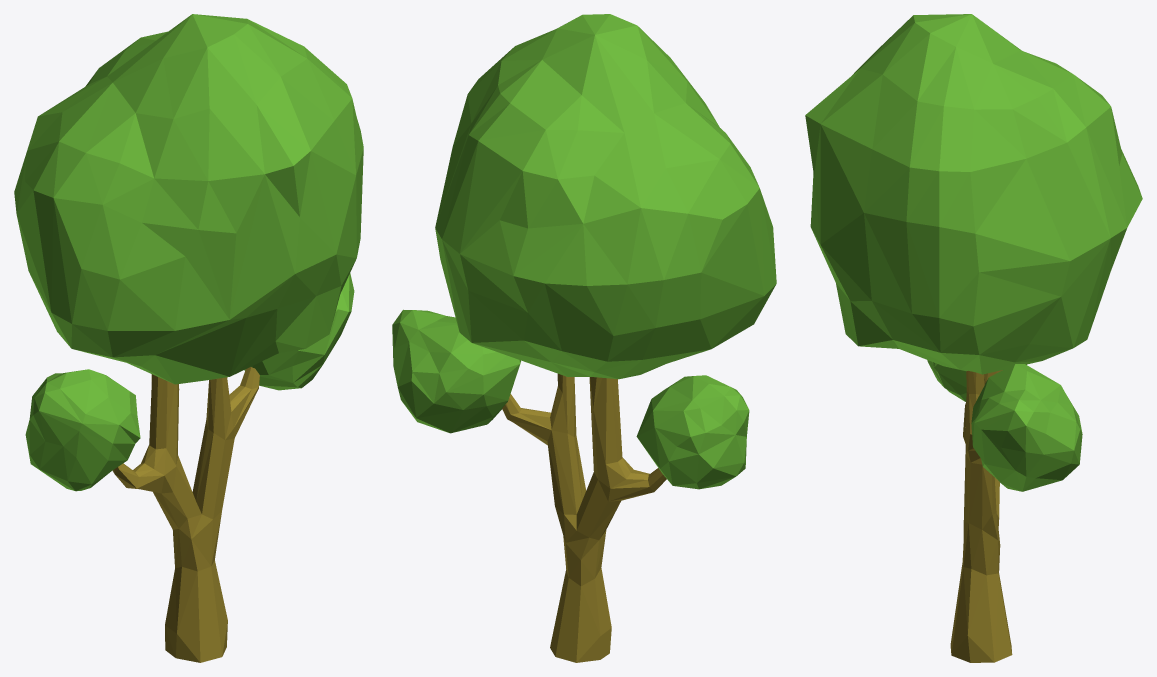
Rendered from Medium tree.fbx.
3 renders of one model, left to right at view 1: azimuth 30°, elevation 25°; view 2: azimuth 150°, elevation 25°; view 3: azimuth 270°, elevation 25°, orthographic. The views are drawn at different scales.
Visible parts, largest first — view 1: 197-_UniqueID_871, 196-_UniqueID_716; view 2: 197-_UniqueID_871, 196-_UniqueID_716; view 3: 197-_UniqueID_871, 196-_UniqueID_716.
Part boxes in pixels (x1=…): 197-_UniqueID_871: x1=14, y1=14, x2=363, y2=491; 196-_UniqueID_716: x1=112, y1=367, x2=259, y2=662; 197-_UniqueID_871: x1=392, y1=14, x2=776, y2=489; 196-_UniqueID_716: x1=502, y1=373, x2=666, y2=662; 197-_UniqueID_871: x1=805, y1=14, x2=1142, y2=491; 196-_UniqueID_716: x1=950, y1=370, x2=1012, y2=662.
Size of the model in its own units: 54.73 by 97.67 by 47.22.
